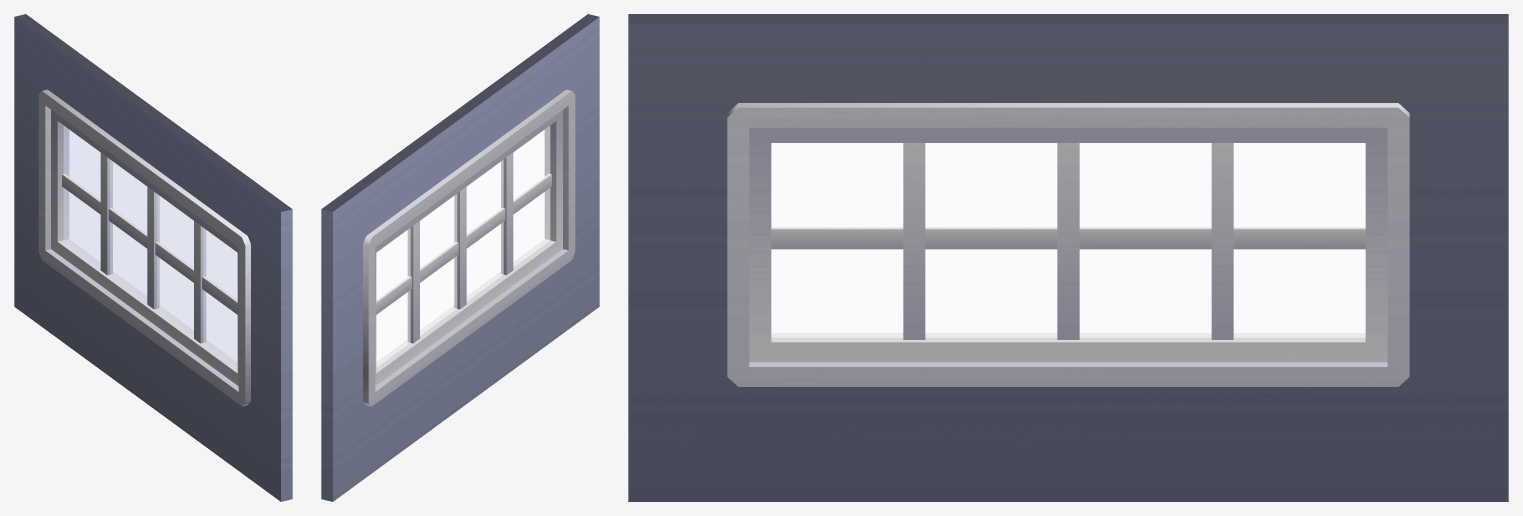
Rendered from Wall Window Wide Square Detailed.glb.
The picture shows the model from 3 angles, left to right: view 1: azimuth 30°, elevation 25°; view 2: azimuth 150°, elevation 25°; view 3: azimuth 270°, elevation 25°; orthographic projection. The views are drawn at different scales.
Parts seen in each view (by area): view 1: wall-window-wide-square-detailed, (%ignore); view 2: wall-window-wide-square-detailed, (%ignore); view 3: wall-window-wide-square-detailed, (%ignore).
Boxes of the visible parts, <box> form: wall-window-wide-square-detailed: <box>14,14,292,501</box>; (%ignore): <box>63,126,237,367</box>; wall-window-wide-square-detailed: <box>321,14,599,501</box>; (%ignore): <box>376,126,550,367</box>; wall-window-wide-square-detailed: <box>628,14,1508,501</box>; (%ignore): <box>771,143,1365,337</box>.
Bounding box in the file's own units: 0.2 × 2.4 × 4.
2 materials, 1 textured.
